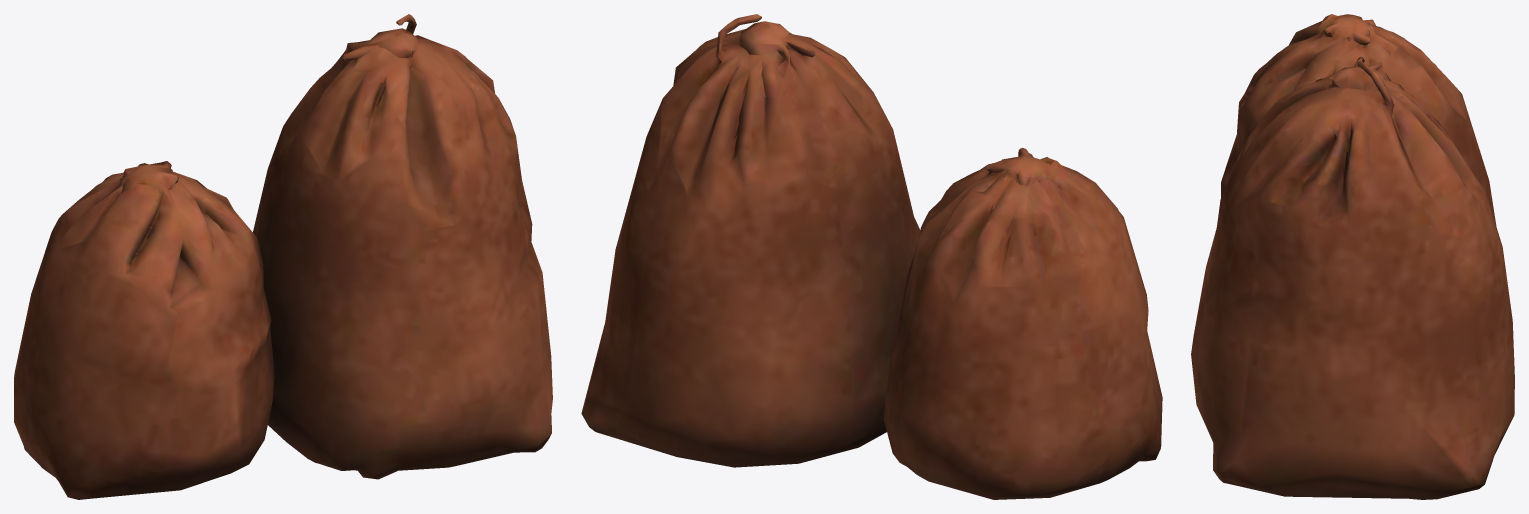
The model's file is simple-terracotta-sandbag-stack-v001.glb.
3 views of the same model, side by side, from view 1: azimuth 30°, elevation 25°; view 2: azimuth 150°, elevation 25°; view 3: azimuth 270°, elevation 25° (orthographic). The views are drawn at different scales.
Parts seen in each view (by area): view 1: simple-terracotta-sandbag-stack; view 2: simple-terracotta-sandbag-stack; view 3: simple-terracotta-sandbag-stack.
Boxes of the visible parts, <box> form: simple-terracotta-sandbag-stack: <box>14,14,552,499</box>; simple-terracotta-sandbag-stack: <box>581,14,1162,499</box>; simple-terracotta-sandbag-stack: <box>1191,14,1514,499</box>.
Size of the model in its own units: 1.22 by 0.9202 by 0.6949.
Materials: 1 (1 with a texture image).
